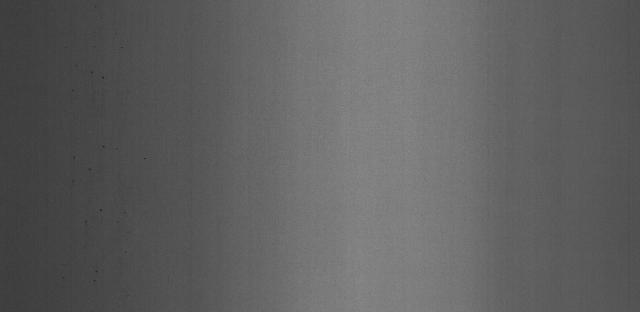inclusion: (81, 204, 127, 225), (69, 147, 90, 185), (84, 68, 109, 84), (114, 38, 130, 54)
